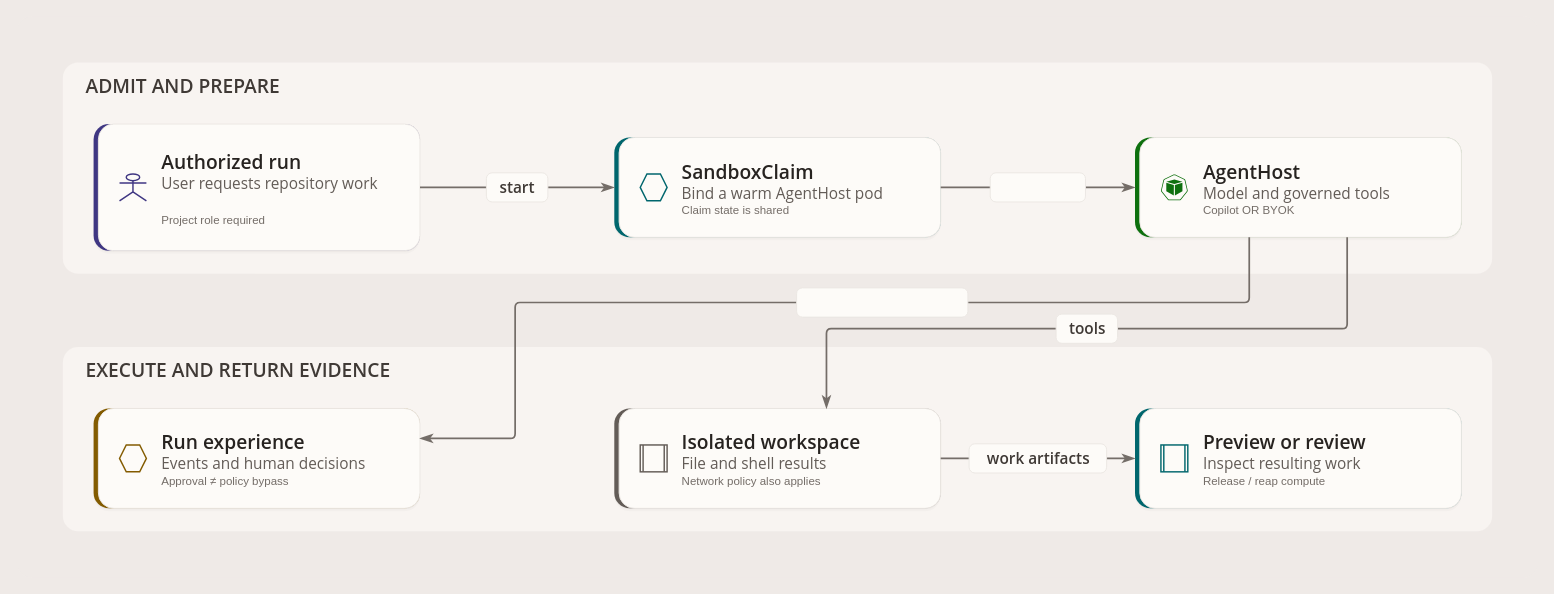
This 1554x594 diagram has some shape labels left out. The centre of each missing label's shape, as x and y in pixels:
"configure" goes at [1037,187].
"events / approvals" goes at [882,302].
